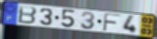3: (80, 11, 97, 31), (38, 8, 55, 26)
4: (122, 14, 139, 35)
5: (62, 8, 78, 29)
B: (18, 5, 38, 25)
F: (102, 12, 122, 32)
